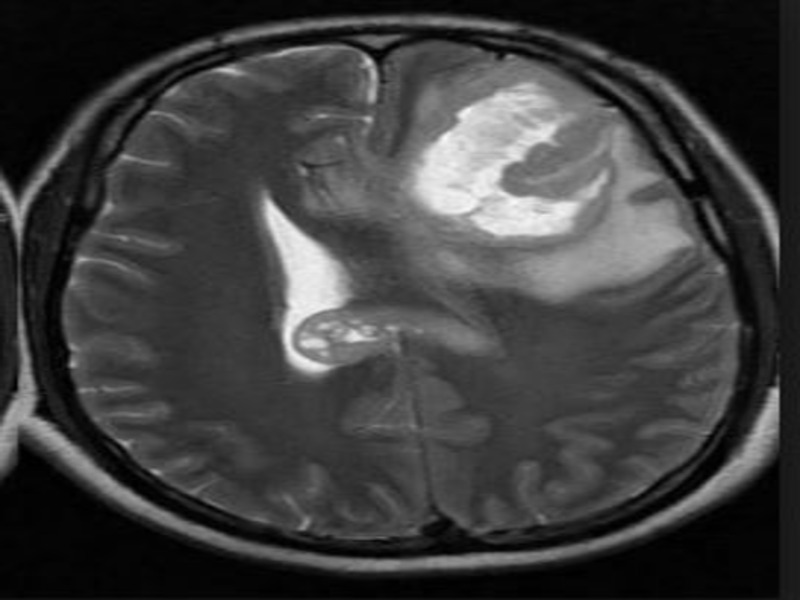tumor: (405, 74, 614, 256)
